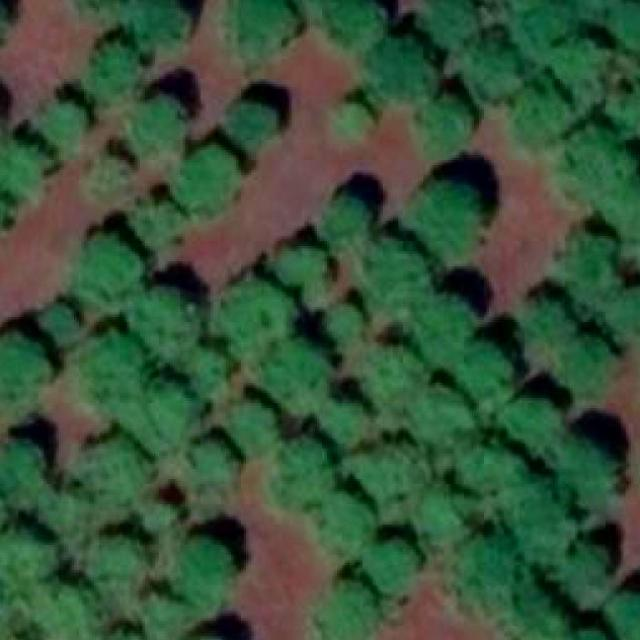Tree: (454, 528, 540, 616), (400, 186, 486, 262), (78, 336, 147, 426), (354, 436, 431, 516), (506, 487, 590, 553), (214, 276, 286, 352), (446, 434, 520, 506), (263, 335, 332, 412), (132, 286, 200, 362), (561, 132, 631, 204), (501, 0, 584, 58), (544, 37, 612, 106), (78, 442, 152, 504), (26, 580, 100, 640), (593, 185, 640, 278), (272, 438, 334, 508), (364, 239, 428, 306), (80, 236, 147, 299), (172, 155, 240, 215), (0, 520, 56, 592), (80, 0, 191, 36), (230, 0, 300, 56), (320, 388, 383, 450), (371, 44, 434, 106), (557, 234, 618, 298), (506, 84, 570, 145), (356, 351, 426, 406), (415, 489, 476, 552), (407, 388, 474, 443), (317, 489, 376, 551), (506, 585, 572, 640), (321, 580, 381, 640), (560, 436, 621, 495), (498, 401, 562, 457), (0, 330, 47, 404), (85, 540, 145, 597), (553, 335, 618, 387), (418, 107, 477, 163), (461, 44, 522, 98), (519, 285, 578, 340), (415, 300, 471, 356), (365, 540, 420, 597), (172, 543, 230, 597), (593, 0, 640, 65), (143, 376, 192, 436), (133, 97, 185, 152), (602, 84, 640, 158), (132, 595, 192, 640), (191, 437, 243, 488), (39, 479, 91, 530), (461, 343, 511, 396), (93, 42, 146, 90), (0, 143, 49, 194), (78, 154, 130, 201), (0, 449, 51, 496), (183, 337, 231, 386), (270, 244, 322, 289), (233, 398, 276, 449), (320, 195, 368, 240), (322, 0, 383, 35), (422, 0, 479, 37), (130, 201, 177, 244), (228, 109, 276, 150), (568, 545, 616, 584), (42, 99, 86, 139), (607, 291, 640, 341), (37, 310, 76, 352), (0, 602, 39, 640), (610, 593, 640, 639), (320, 309, 363, 341), (336, 107, 373, 138), (136, 499, 175, 528), (101, 623, 140, 640), (562, 628, 616, 640), (0, 198, 13, 236), (0, 6, 10, 41), (180, 636, 226, 640)
